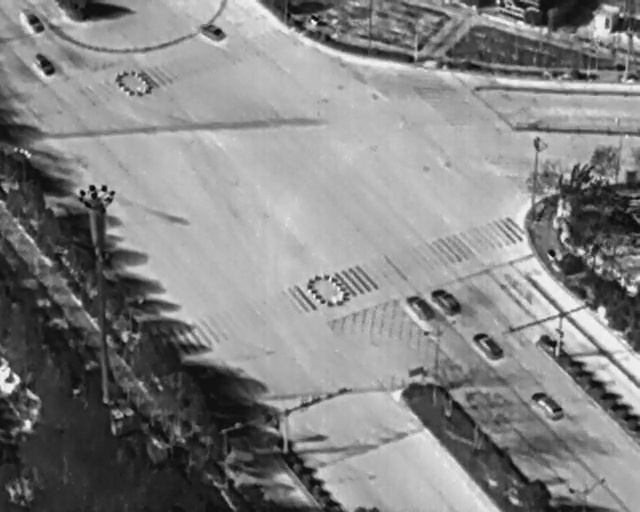Car: (469, 326, 507, 365), (427, 282, 465, 320), (529, 386, 566, 424), (14, 4, 47, 39), (405, 289, 437, 325), (194, 17, 228, 45), (29, 48, 59, 79)
